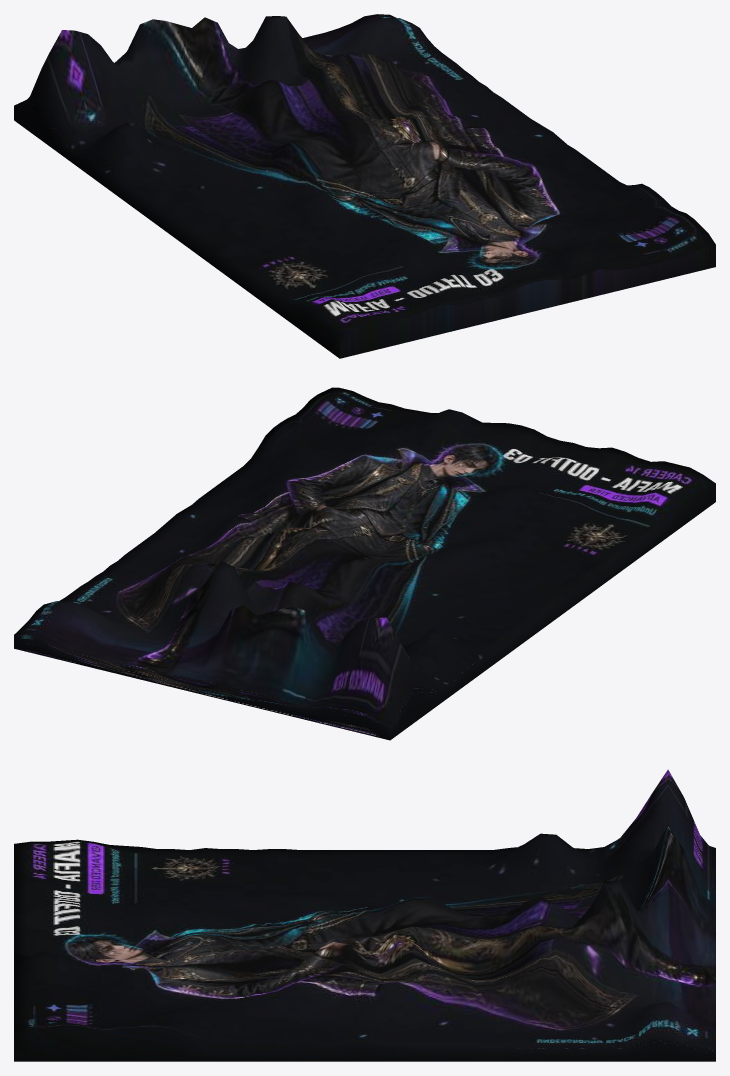
The model's file is CAREER_14_Outfit_03_Advanced.glb.
The picture shows the model from 3 angles, top to bottom: view 1: azimuth 30°, elevation 25°; view 2: azimuth 150°, elevation 25°; view 3: azimuth 270°, elevation 25°; orthographic projection. The views are drawn at different scales.
Parts seen in each view (by area): view 1: CAREER_14_Outfit_03_Advanced; view 2: CAREER_14_Outfit_03_Advanced; view 3: CAREER_14_Outfit_03_Advanced.
Boxes of the visible parts, box(x1,y1,x2,y2) form: CAREER_14_Outfit_03_Advanced: box(14, 14, 715, 358); CAREER_14_Outfit_03_Advanced: box(14, 387, 715, 740); CAREER_14_Outfit_03_Advanced: box(14, 769, 715, 1061).
Size of the model in its own units: 2 by 0.51 by 3.
Materials: 1 (1 with a texture image).
